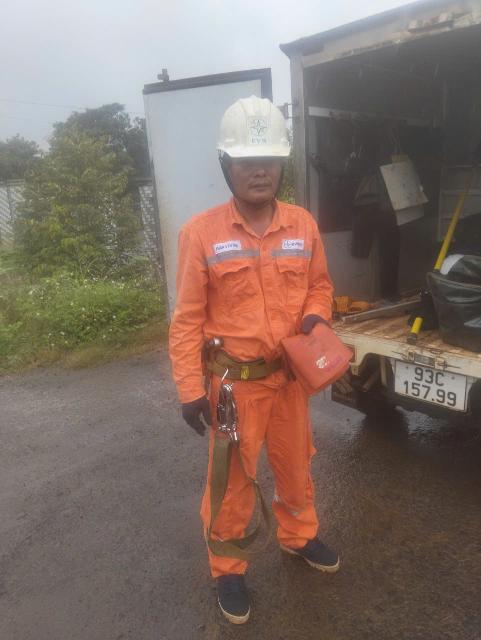gloves: (169, 390, 231, 444)
harness: (201, 312, 298, 394)
helmet: (211, 86, 319, 189)
shoes: (269, 523, 360, 587), (206, 563, 268, 638)
